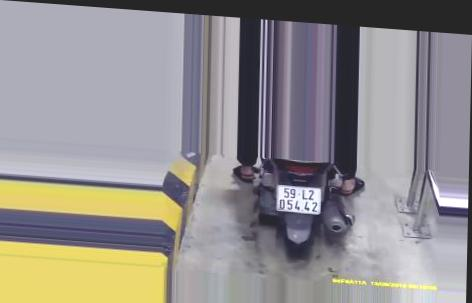License_Plate: (270, 182, 327, 217)
